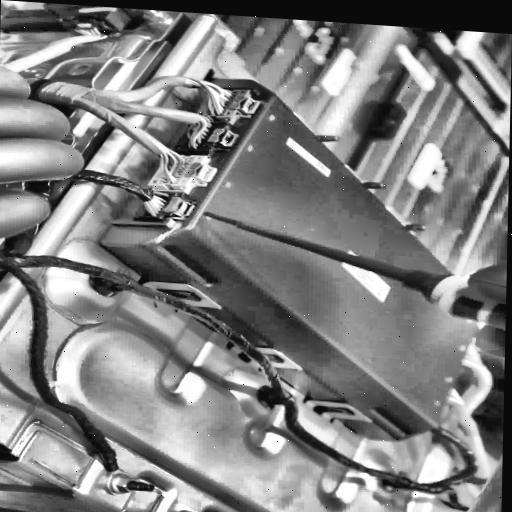bms_unit: (94, 77, 488, 442)
